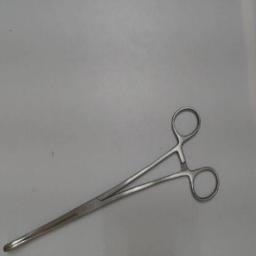Sponge Forceps: (0, 100, 224, 254)
